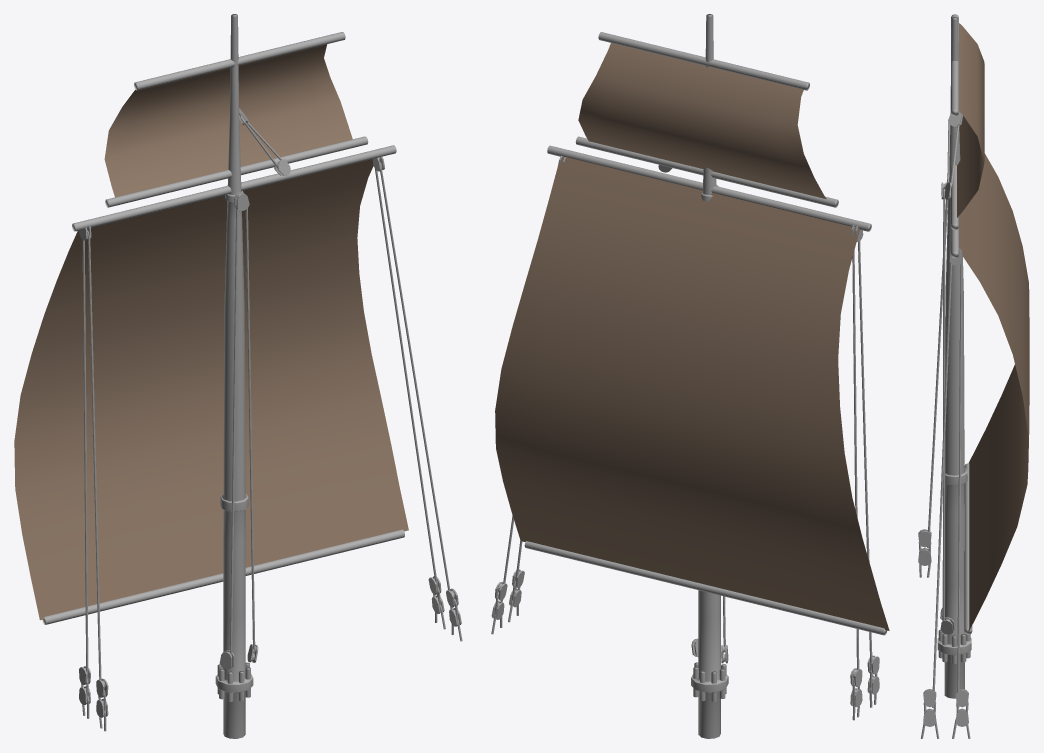
Rendered from sail2.fbx.
3 renders of one model, left to right at view 1: azimuth 30°, elevation 25°; view 2: azimuth 150°, elevation 25°; view 3: azimuth 270°, elevation 25°, orthographic. The views are drawn at different scales.
Visible parts, largest first — view 1: pPlane5, pTorus15; view 2: pPlane5, pTorus15; view 3: pPlane5, pTorus15.
Boxes of the visible parts, x1=… form: pPlane5: x1=14, y1=44, x2=408, y2=620; pTorus15: x1=42, y1=14, x2=462, y2=738; pPlane5: x1=495, y1=43, x2=889, y2=630; pTorus15: x1=491, y1=14, x2=887, y2=738; pPlane5: x1=957, y1=23, x2=1029, y2=631; pTorus15: x1=918, y1=14, x2=972, y2=738.
Bounding box in the file's own units: 13.31 × 22.94 × 3.43.
